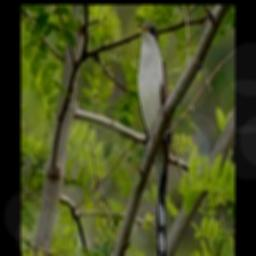Cuckoo: (136, 23, 172, 256)
